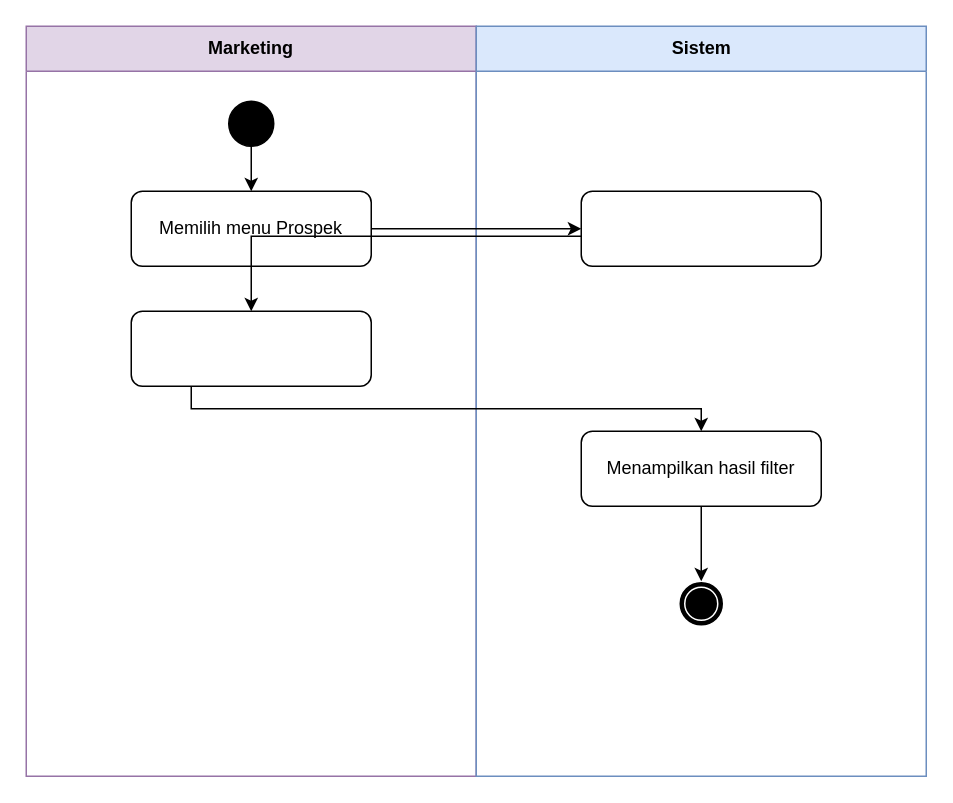
This 953x803 diagram has some shape labels left out. Each missing label, with the centre of its shape:
"Melakukan pencarian/filter" goes at (x=250, y=348).
"Menampilkan daftar prospek" goes at (x=700, y=228).
